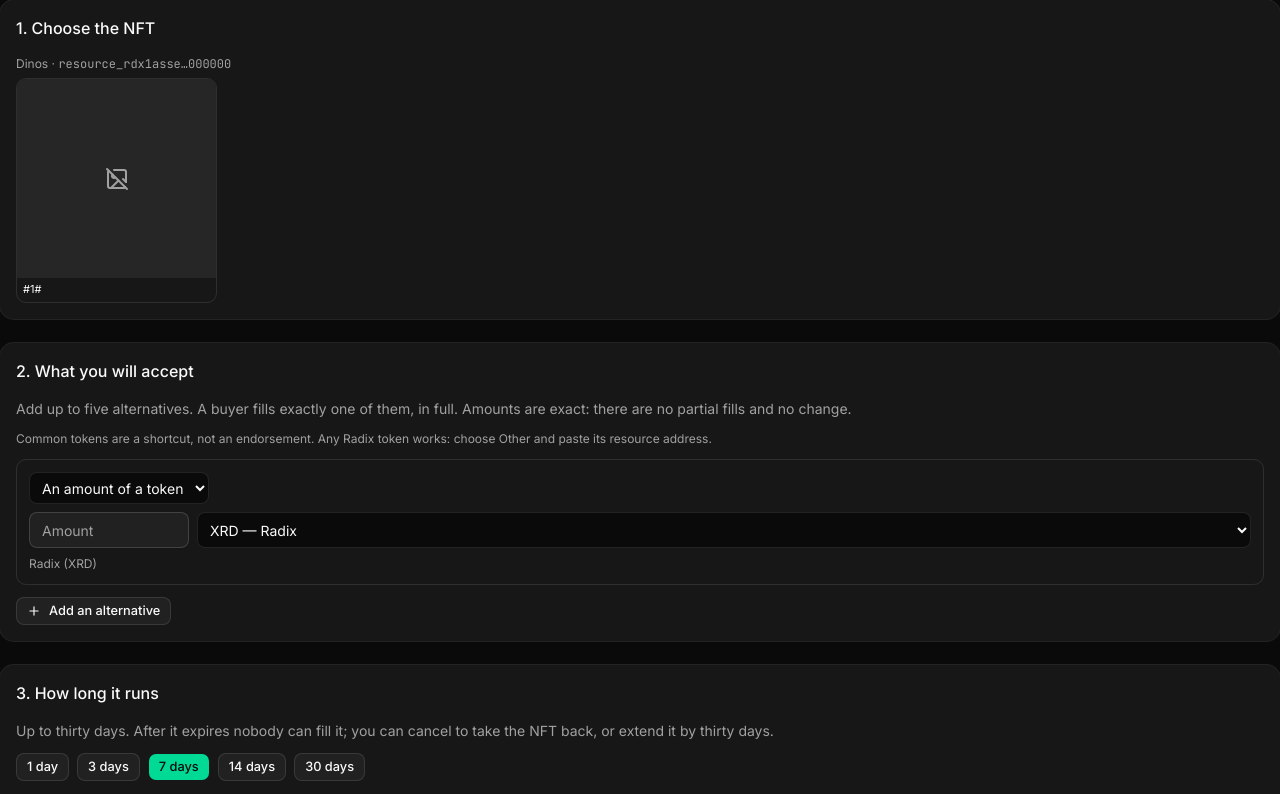
it: ListNftForm — freeze guard, receipts and ask resources › an NFT ask in a collection whose issuer can freeze it is blocked too
Click the button "#1#" at (117, 190), box [16,78,217,303]
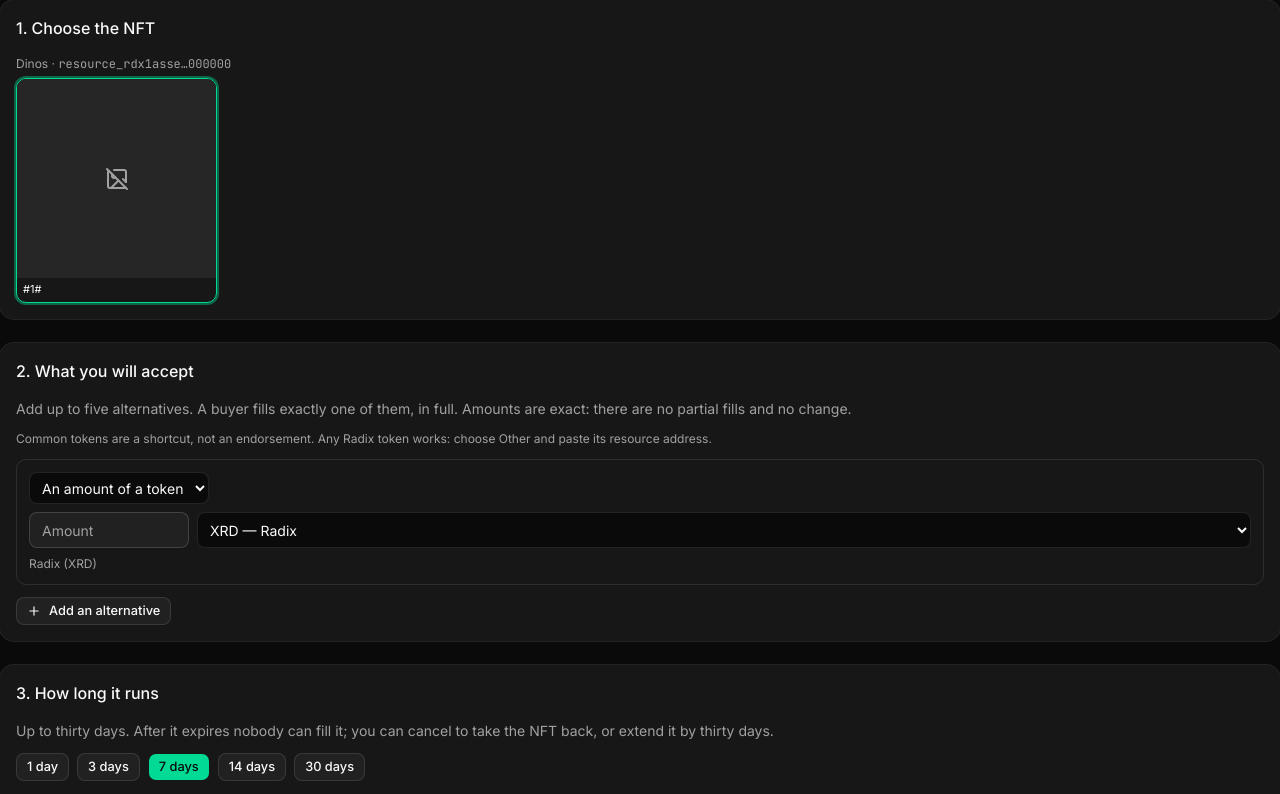
Select "A specific NFT" in the dropdown named "Alternative 1 kind" at (119, 488), box [29,472,209,504]
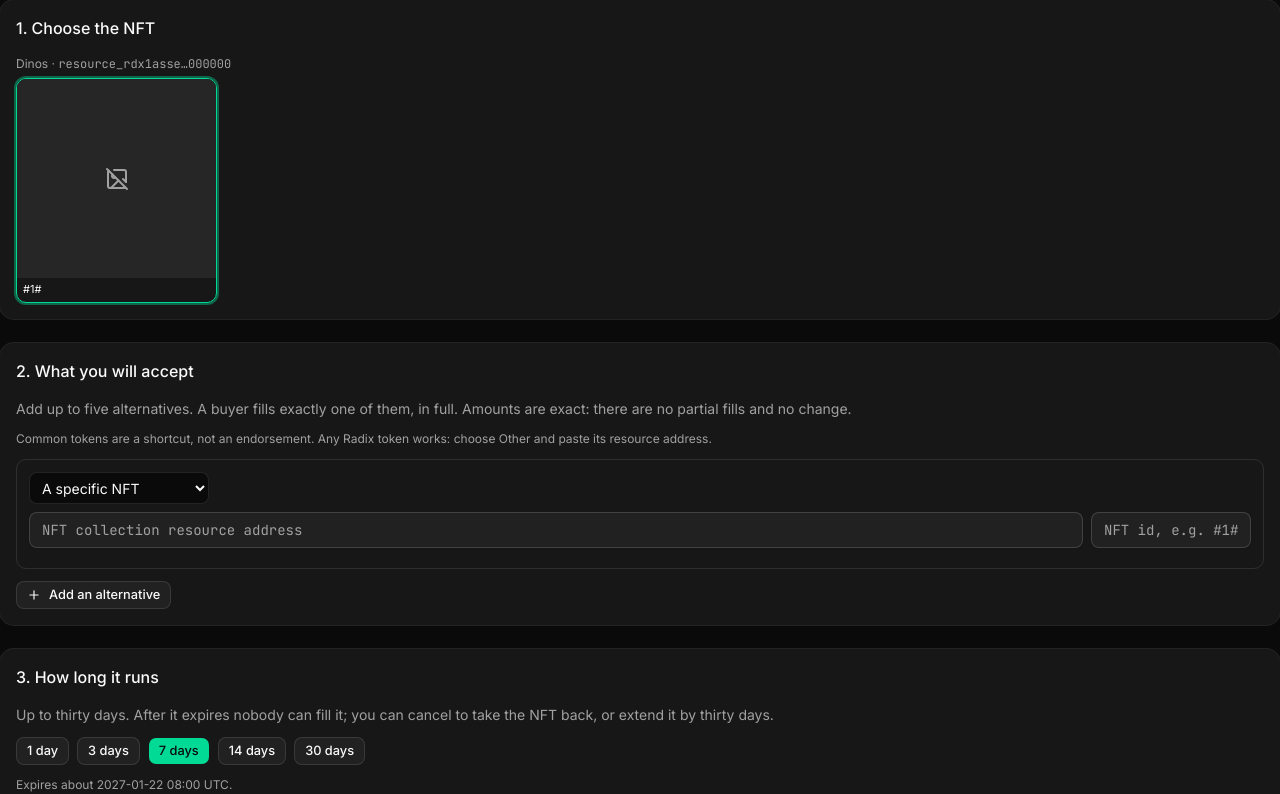
Type "resource_rdx1askcoll0000000000000000000000000000000000000000000" into the field named "Alternative 1 collection" at (556, 530), box [29,512,1083,548]
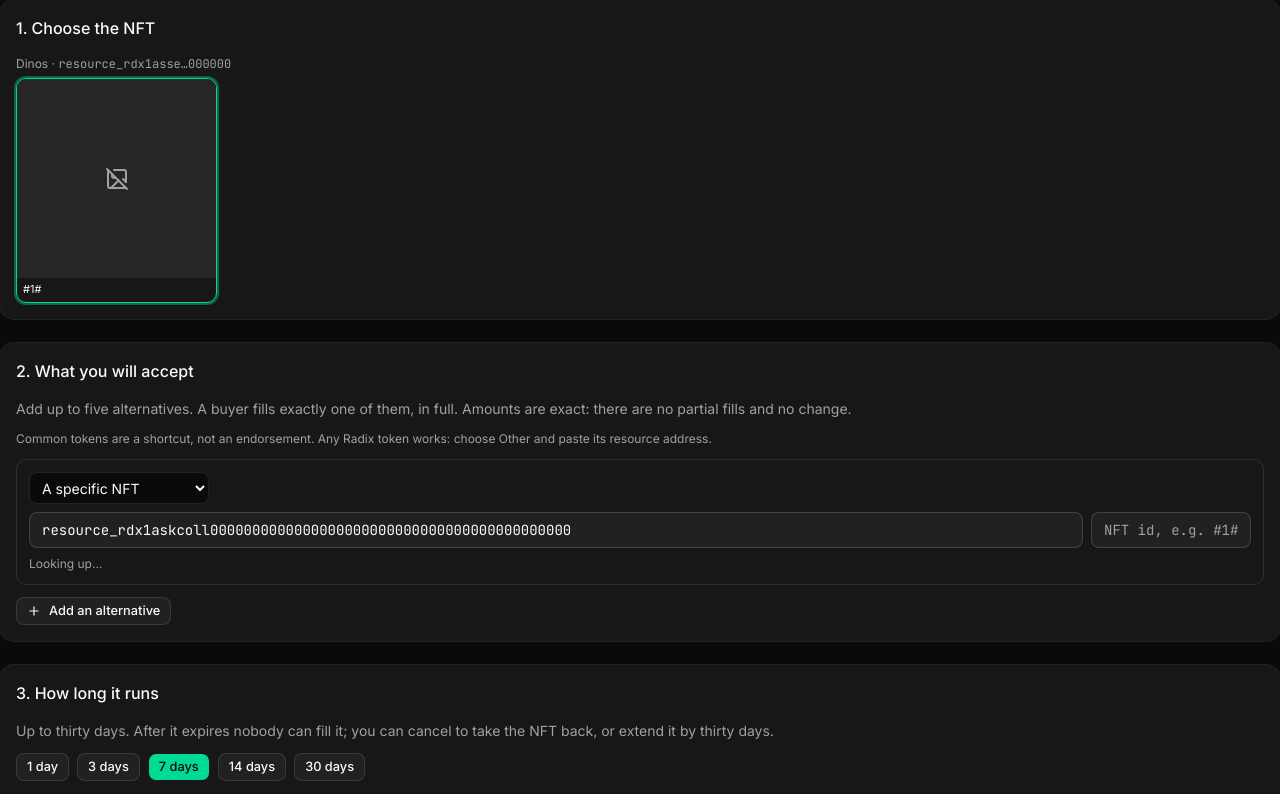
Type "#2#" into the field named "Alternative 1 NFT id" at (1171, 530), box [1091,512,1251,548]
(page scrolled)
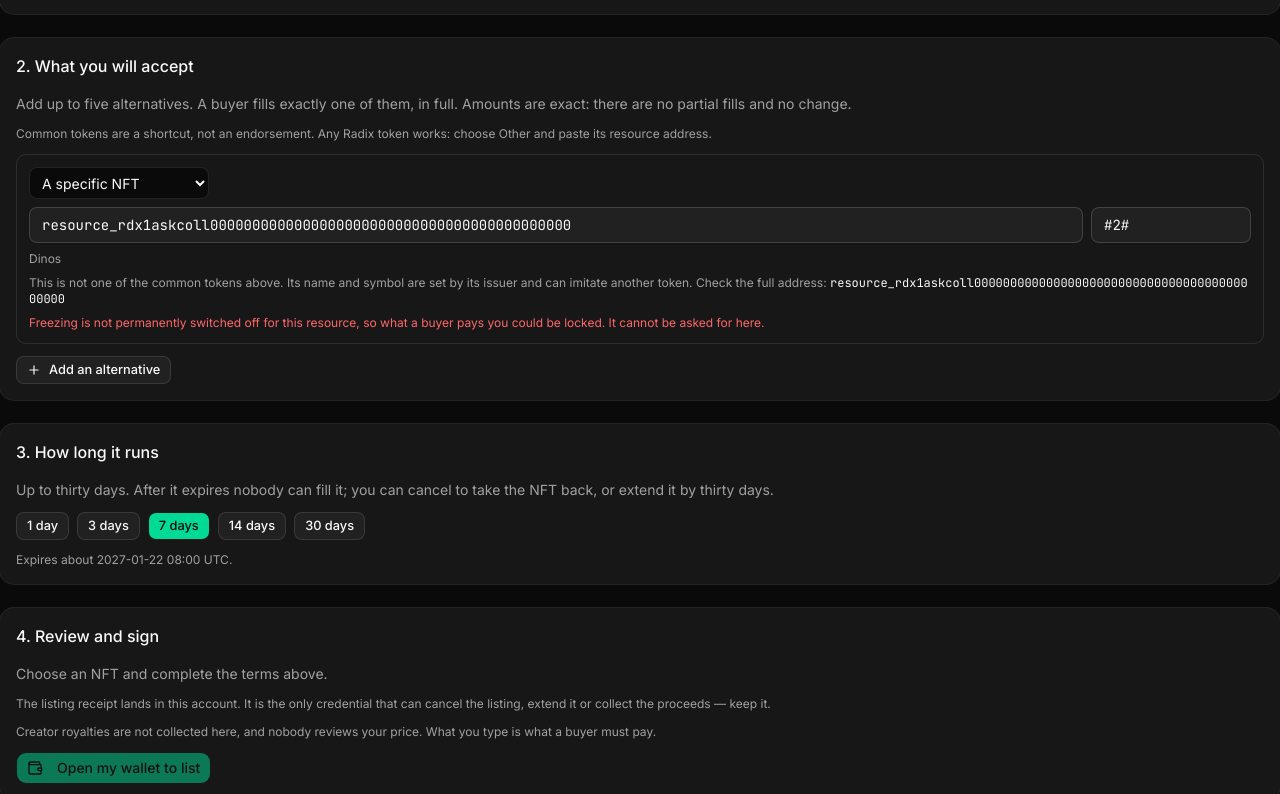
Expected: the button "Open my wallet to list" is disabled, [16,752,211,784]
Expected: the text "Freezing is not permanently switched off for this resource, so what a buyer pays you could be locked. It cannot be asked" is shown, [29,315,765,330]
Expected: the element with test id "ask-not-common" shows "resource_rdx1askcoll0000000000000000000000000000000000000000000", [29,275,1248,307]
